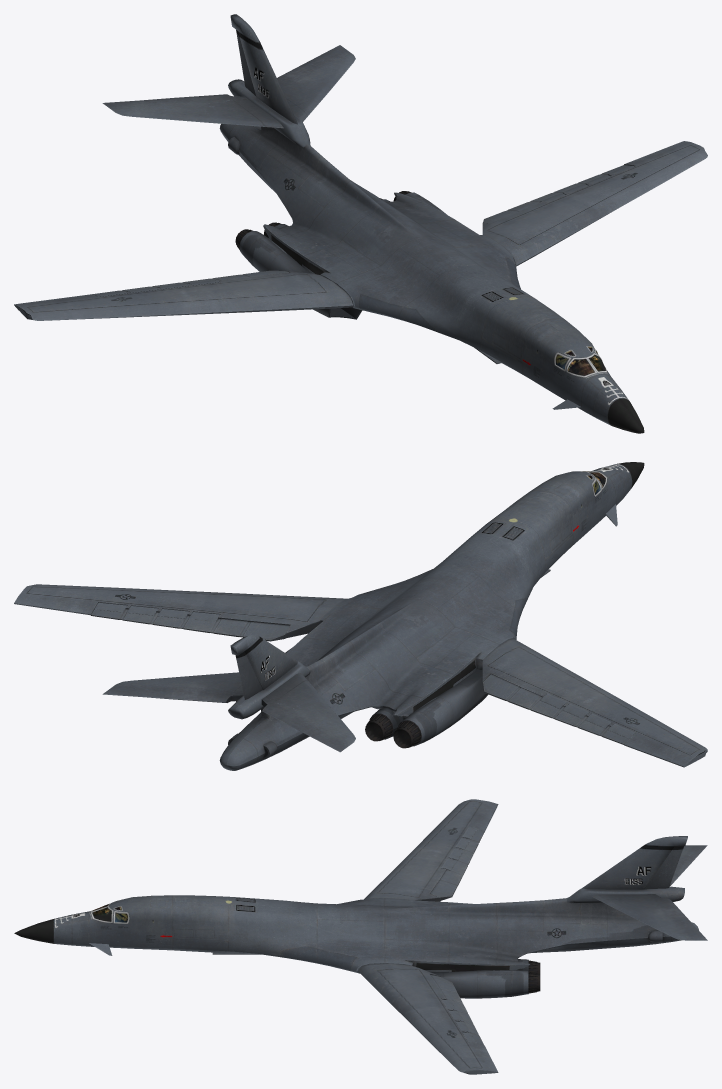
Rendered from battlefield_4_-_b1-_lancer.glb.
The picture shows the model from 3 angles, top to bottom: view 1: azimuth 30°, elevation 25°; view 2: azimuth 150°, elevation 25°; view 3: azimuth 270°, elevation 25°; orthographic projection. The views are drawn at different scales.
Parts seen in each view (by area): view 1: Body, WingR1, WingL1, WingR2, WingL2; view 2: Body, WingR1, WingR2, WingL1, WingL2, WingBack; view 3: Body, WingL1, WingL2, WingR2, WingBack, WingR1.
Part boxes in pixels (box(x1,y1,x2,y2)): Body: box(14, 14, 707, 433); WingR1: box(102, 94, 283, 128); WingL1: box(277, 45, 355, 121); WingR2: box(483, 165, 633, 223); WingL2: box(91, 270, 288, 296); Body: box(14, 462, 707, 770); WingR1: box(261, 673, 355, 752); WingR2: box(91, 602, 289, 641); WingL1: box(102, 672, 243, 702); WingL2: box(483, 674, 635, 744); WingBack: box(235, 651, 262, 699); Body: box(14, 799, 698, 1074); WingL1: box(591, 894, 707, 940); WingL2: box(430, 827, 484, 900); WingR2: box(431, 975, 483, 1044); WingBack: box(645, 846, 683, 889); WingR1: box(670, 845, 707, 885).
Size of the model in its own units: 83.76 by 18.62 by 90.58.
Materials: 1 (1 with a texture image).
